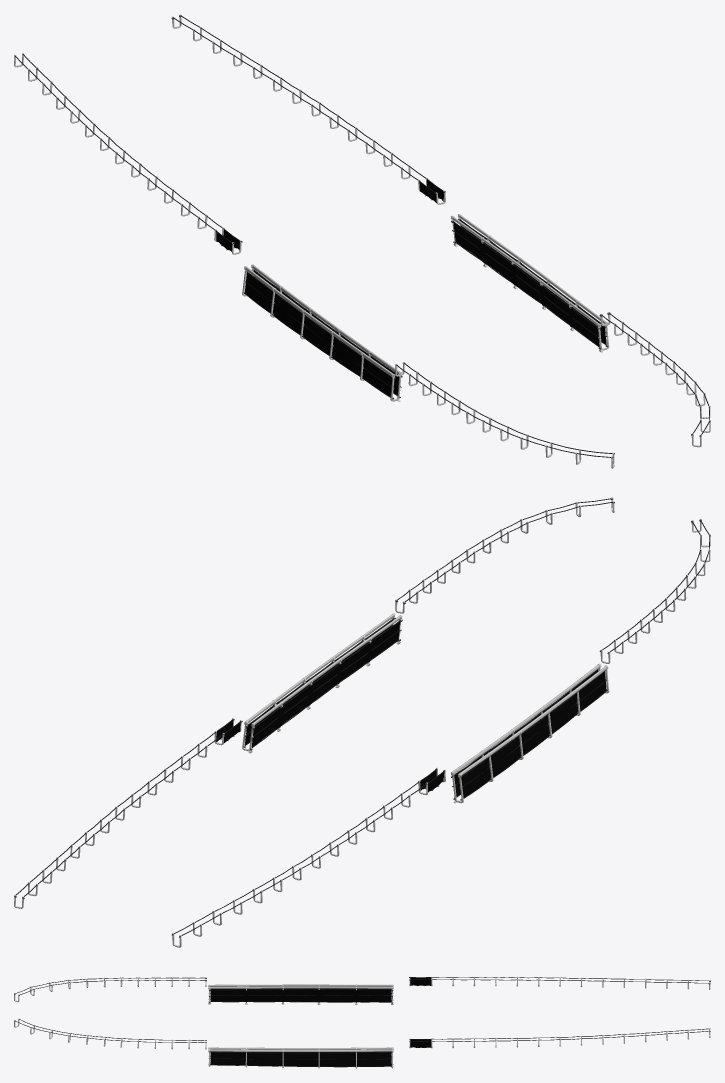
The model's file is SideRail.fbx.
3 views of the same model, one above another, from view 1: azimuth 30°, elevation 25°; view 2: azimuth 150°, elevation 25°; view 3: azimuth 270°, elevation 25° (orthographic). The views are drawn at different scales.
Parts seen in each view (by area): view 1: SideRails; view 2: SideRails; view 3: SideRails.
Boxes of the visible parts, box(x1,y1,x2,y2) form: SideRails: box(14, 14, 710, 468); SideRails: box(14, 497, 710, 947); SideRails: box(14, 976, 710, 1068).
Bounding box in the file's own units: 1107 × 234 × 4828.
